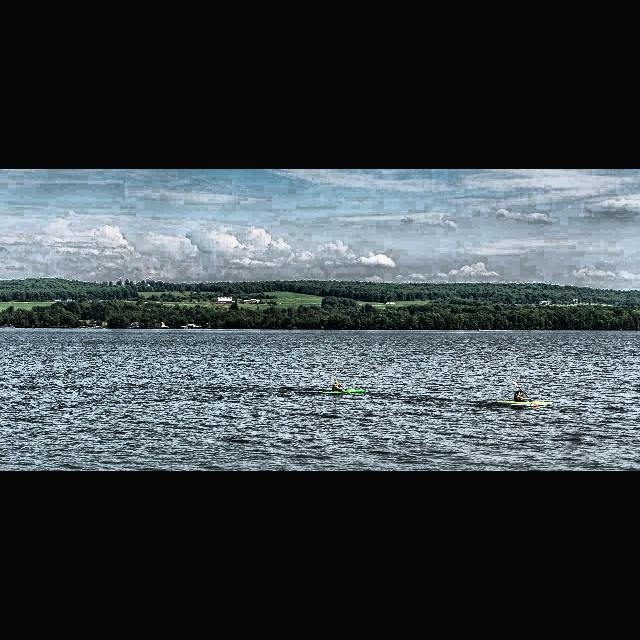kayak: (496, 399, 554, 407), (317, 389, 367, 395)
